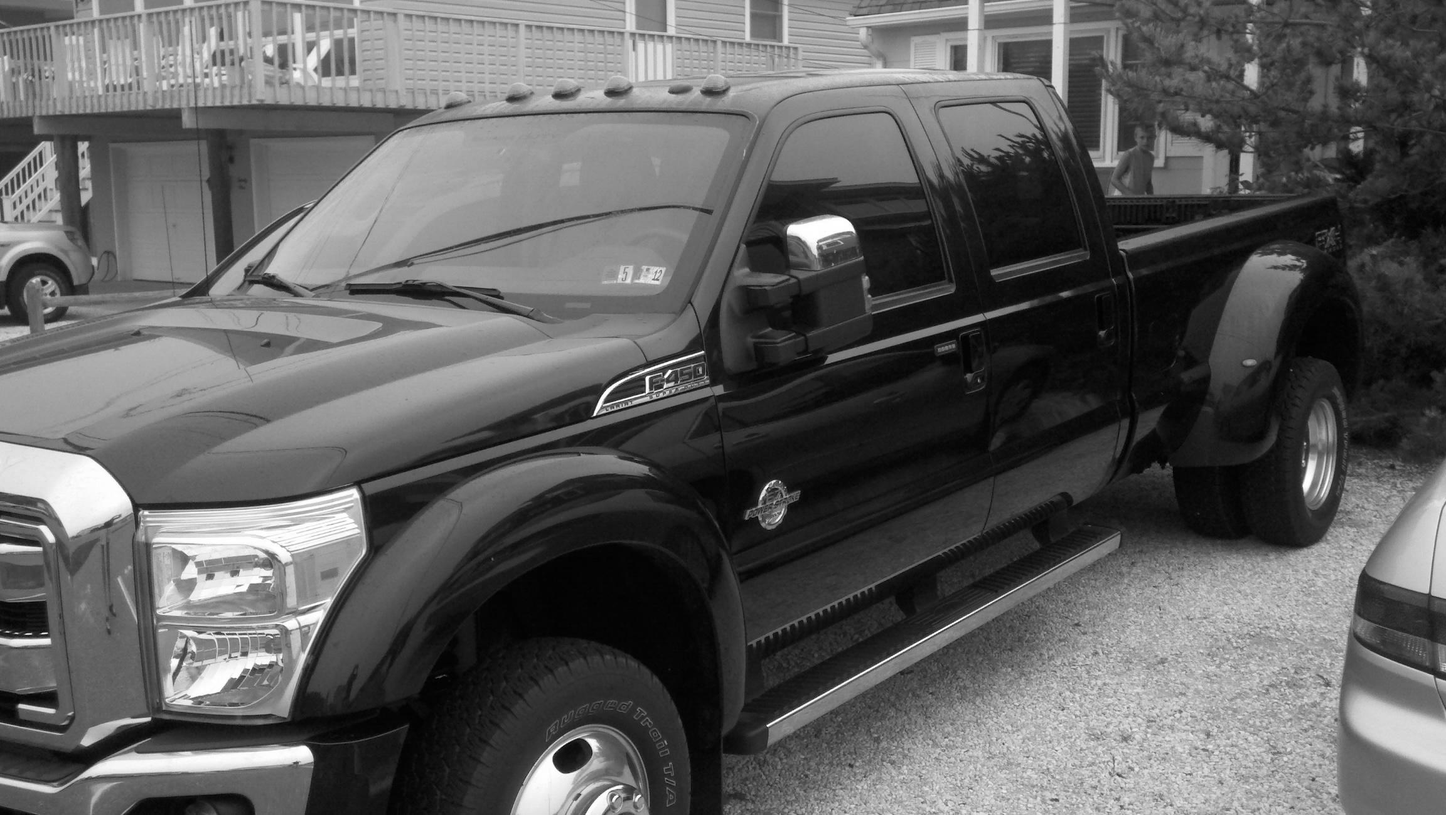car: (1, 73, 1354, 811)
